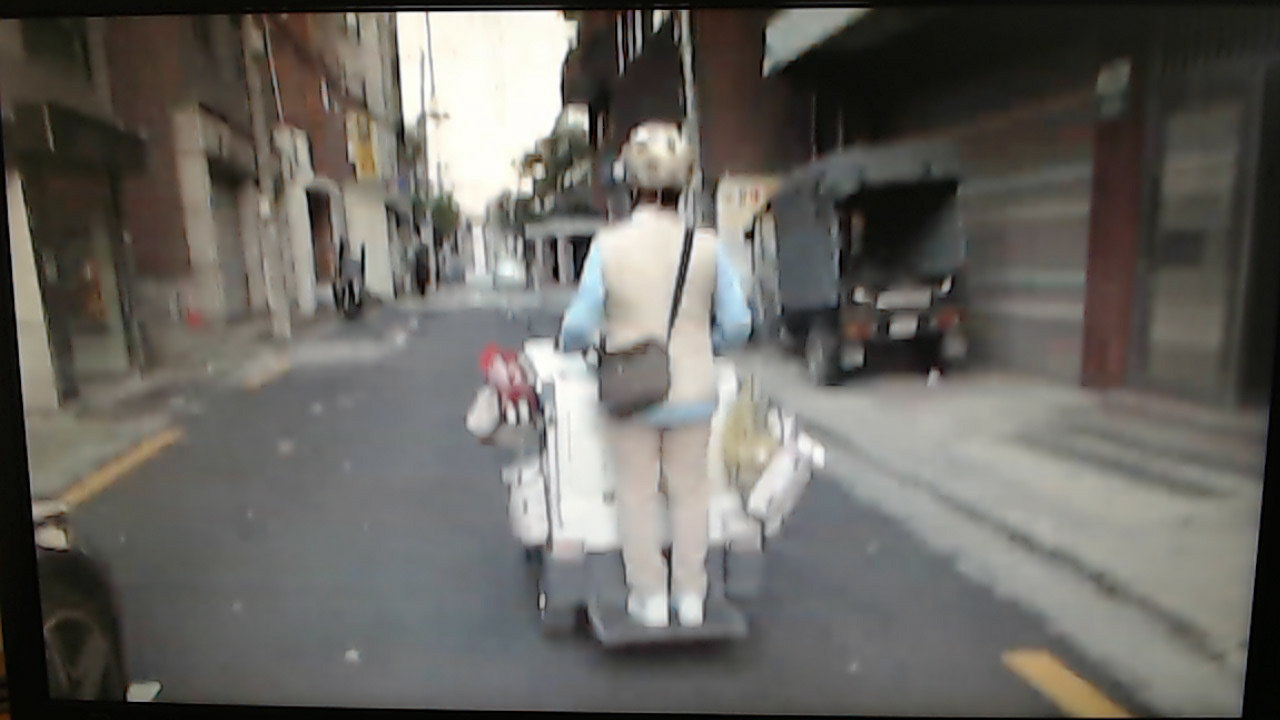Yakurut: (542, 94, 807, 671)
